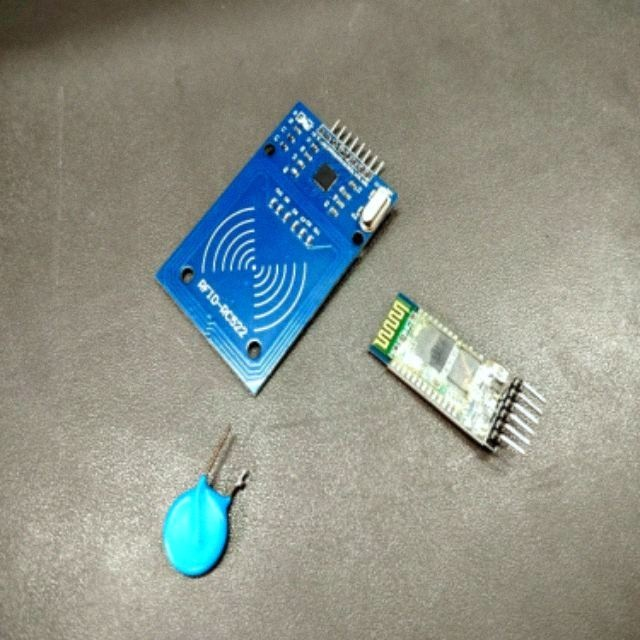capacitor: (162, 481, 230, 575)
